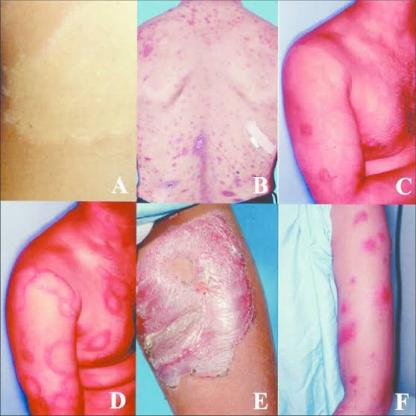Hansen-s Disease-Leprosy- severe: (143, 217, 247, 396)
